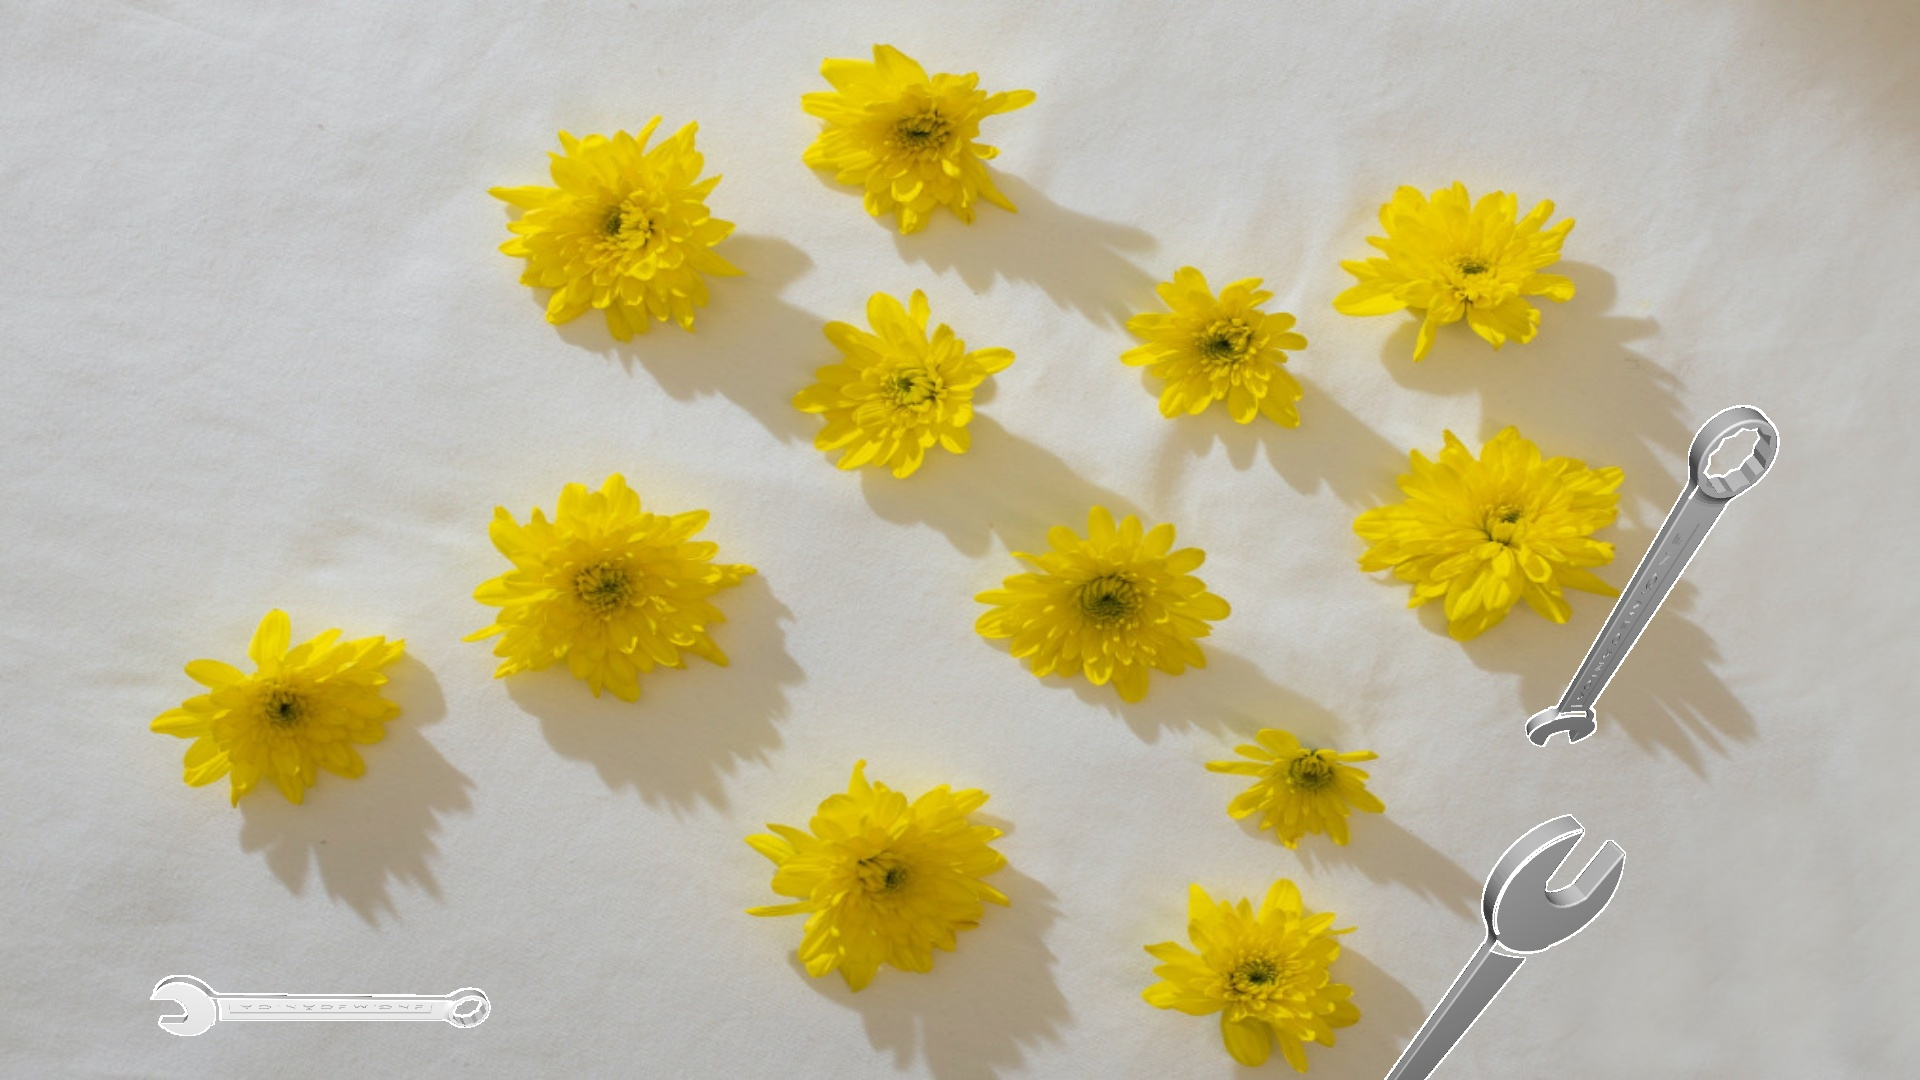Mixed Key: (1524, 405, 1779, 746), (1385, 814, 1625, 1079), (150, 975, 491, 1035)
